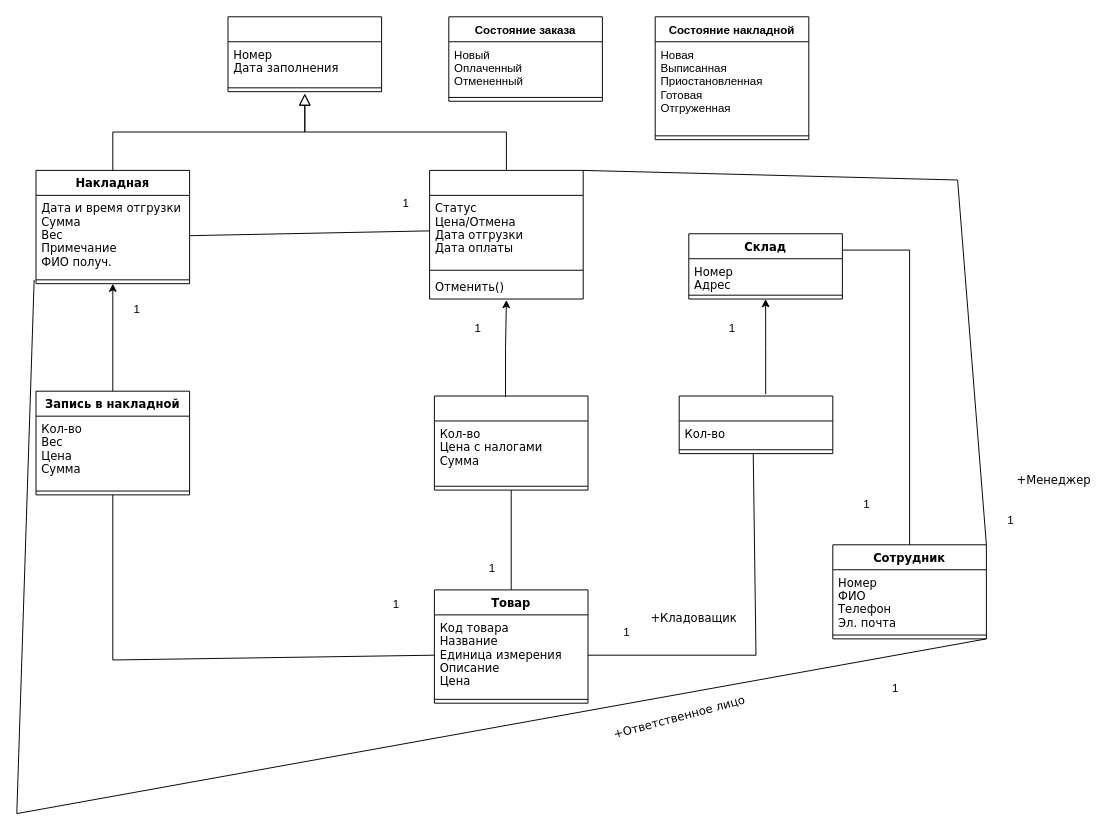
The diagram is 1118 pixels wide and 831 high, and some of its shapes have lost their labels. Here are the shapes that lost their labels. From the top down, the box of each, then its label:
(227, 16, 382, 92): Документ
(429, 169, 583, 299): Заказа
(433, 395, 588, 490): Строка заказа
(678, 395, 833, 454): Товар на складе
